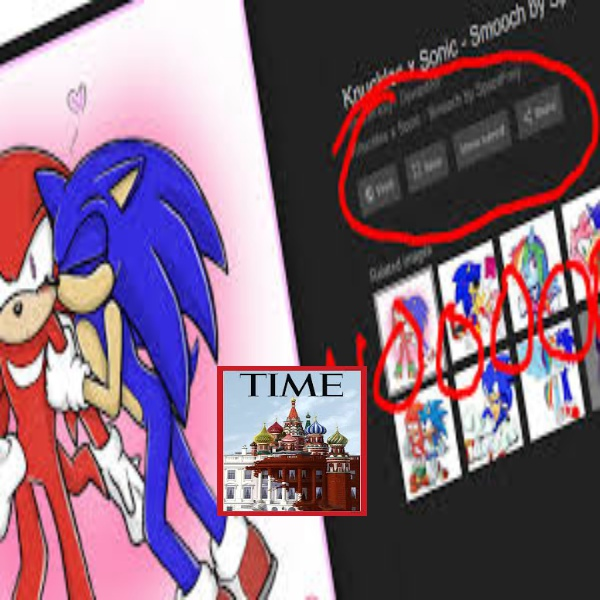time_cover: (211, 356, 374, 522)
